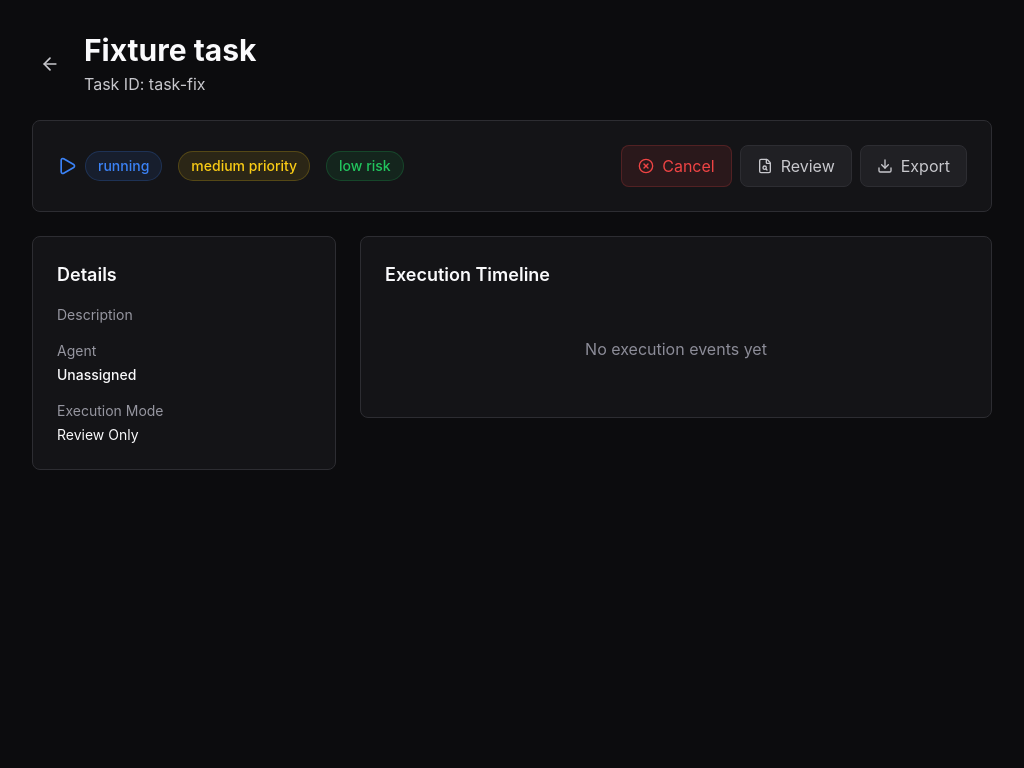
UXE-09: a failed task cancel shows an inline notice, not a native alert
Click the button "Cancel".
click(676, 166)  # box 621,145 -> 732,187
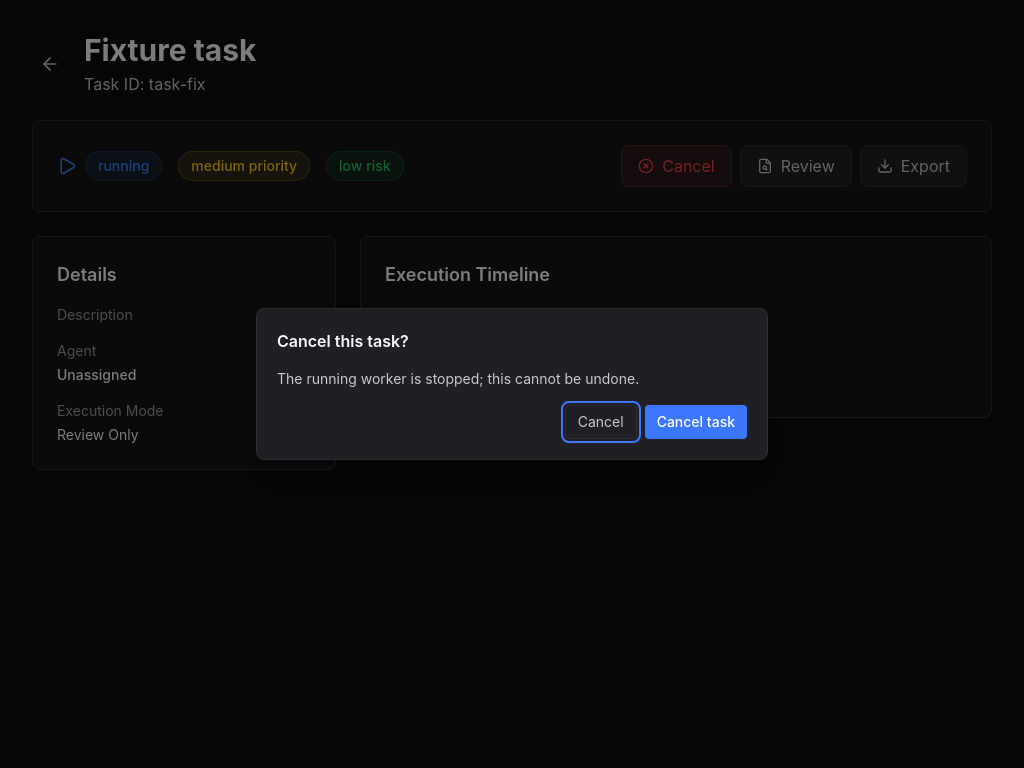
Click the button "Cancel task".
click(696, 422)  # box 645,405 -> 747,439
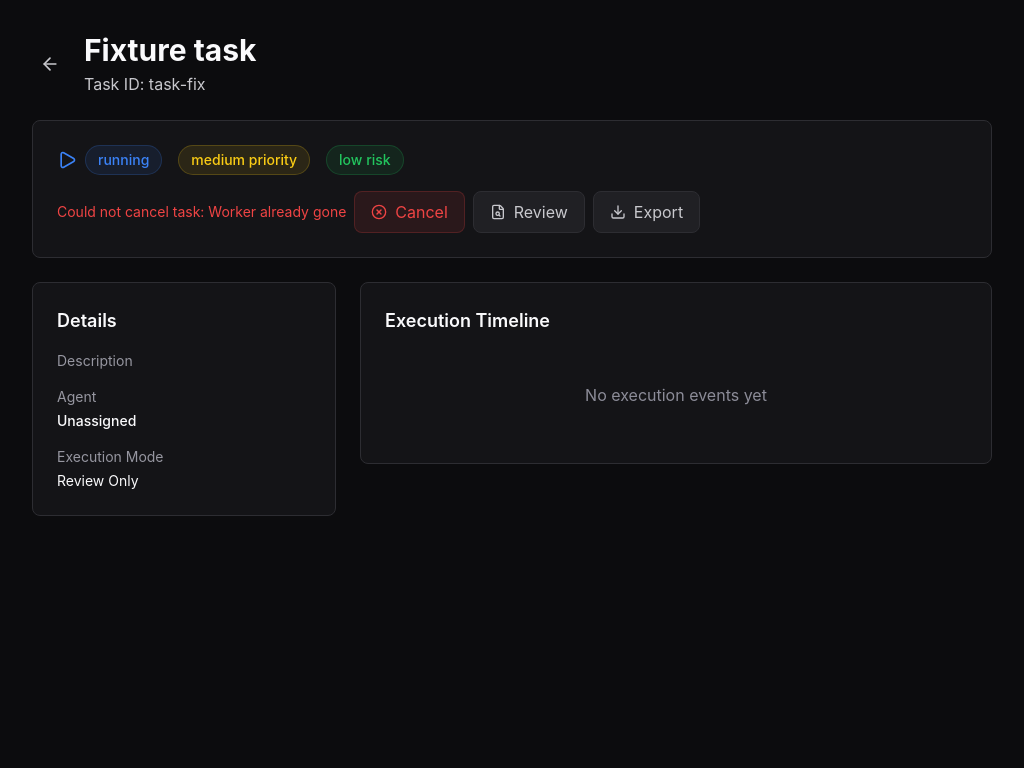
expect the message reads "Could not cancel task: Worker already gone": met, box 57,203 -> 346,220
